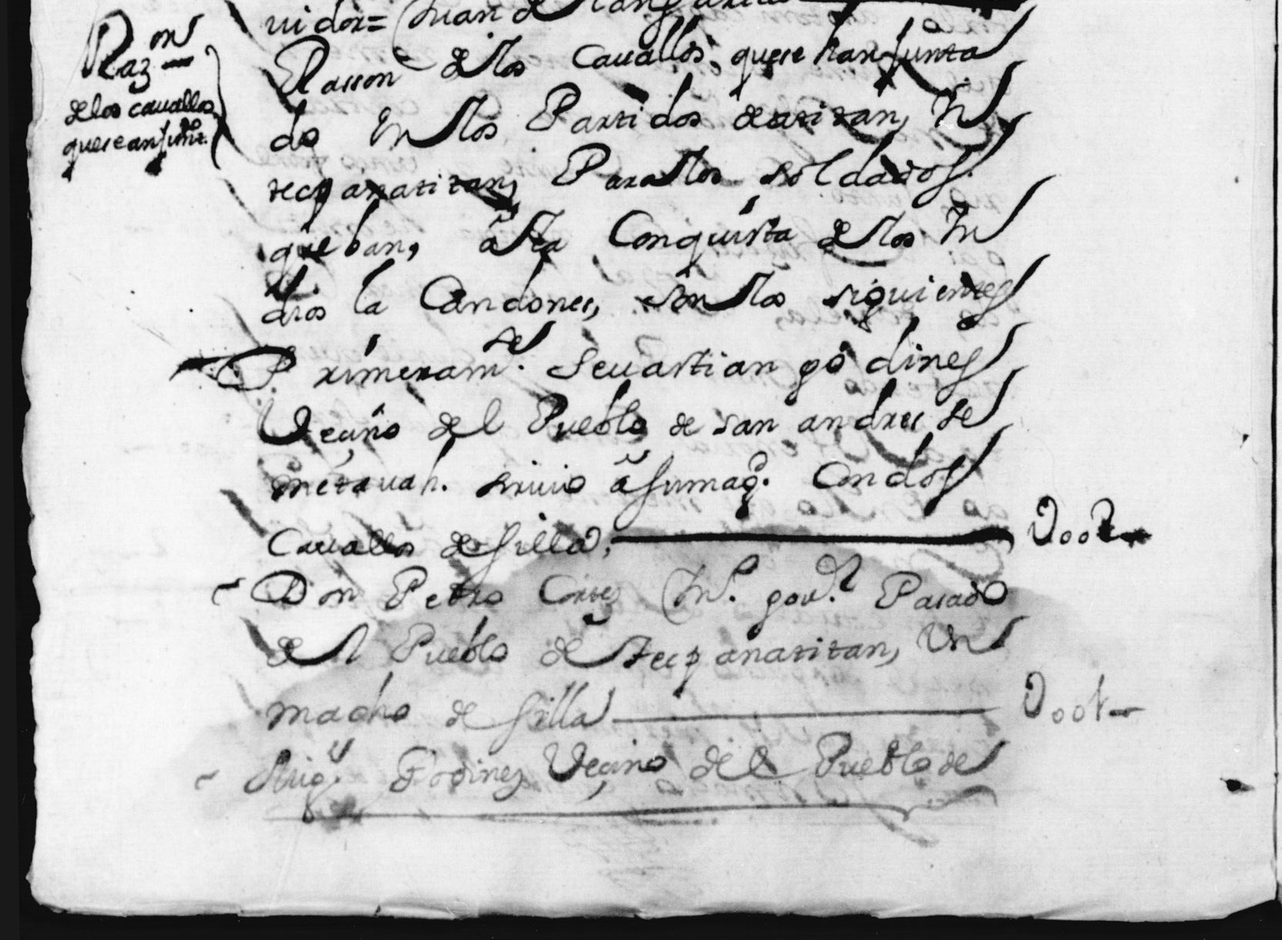lacandon: (354, 257, 593, 315)
